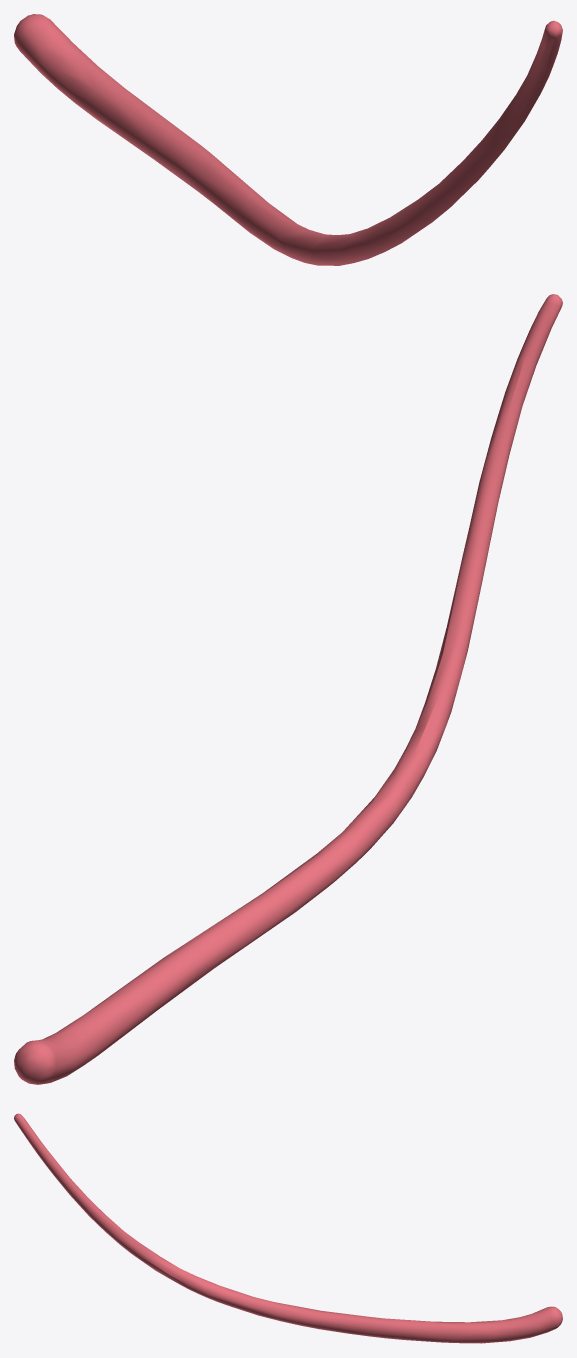
Rendered from fma50444_fj1686m.glb.
3 renders of one model, top to bottom at view 1: azimuth 30°, elevation 25°; view 2: azimuth 150°, elevation 25°; view 3: azimuth 270°, elevation 25°, orthographic. The views are drawn at different scales.
Parts seen in each view (by area): view 1: FMA50444_FJ1686M; view 2: FMA50444_FJ1686M; view 3: FMA50444_FJ1686M.
Part boxes in pixels (x1,y1,x2,y2): FMA50444_FJ1686M: (14, 14, 562, 265); FMA50444_FJ1686M: (14, 294, 562, 1084); FMA50444_FJ1686M: (14, 1113, 562, 1343).
Size of the model in its own units: 0.00223 by 0.0126 by 0.0279.
